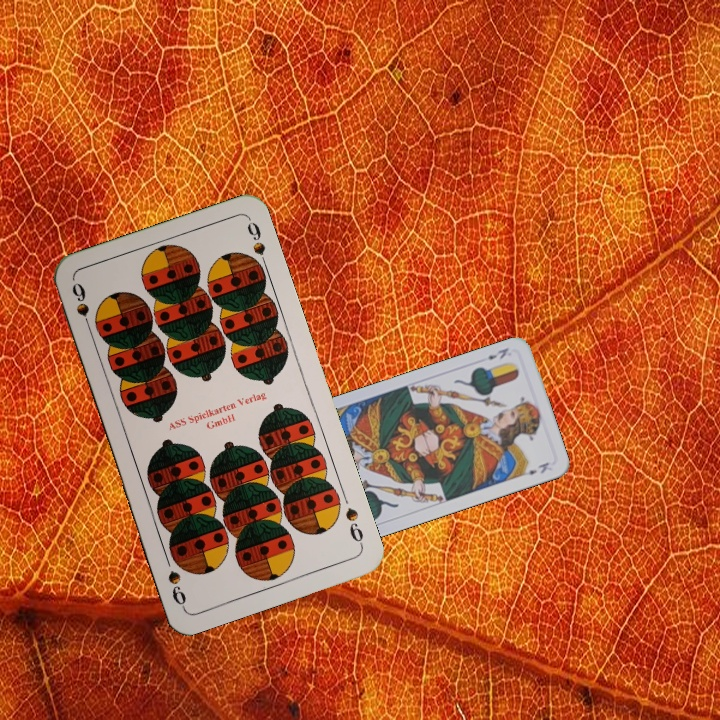EK: (483, 343, 511, 362)
S9: (68, 278, 95, 336), (341, 503, 366, 550)
